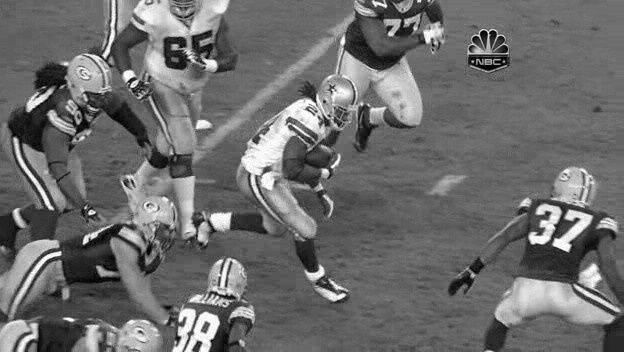person: (320, 74, 355, 128), (319, 74, 354, 128), (321, 74, 356, 128), (320, 73, 355, 127), (320, 75, 355, 129)
target_negative: (184, 33, 333, 351), (180, 151, 419, 269), (217, 7, 354, 200), (221, 154, 429, 260), (409, 136, 554, 209), (534, 141, 548, 309)
